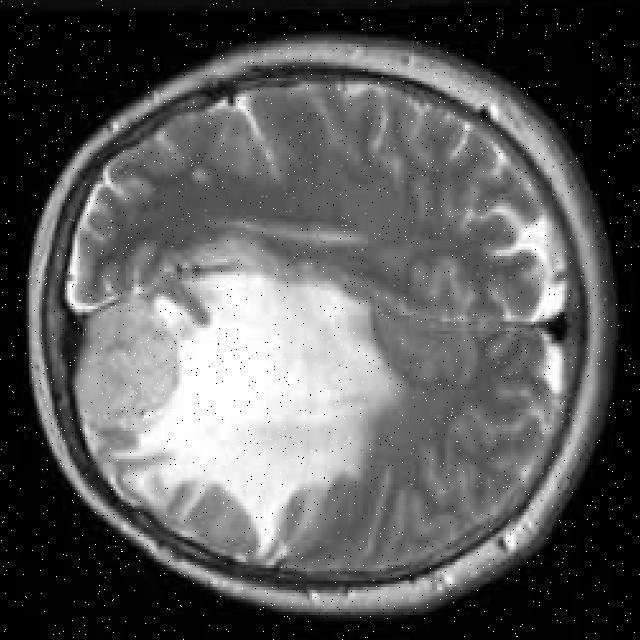Meningioma: (78, 268, 400, 559)
